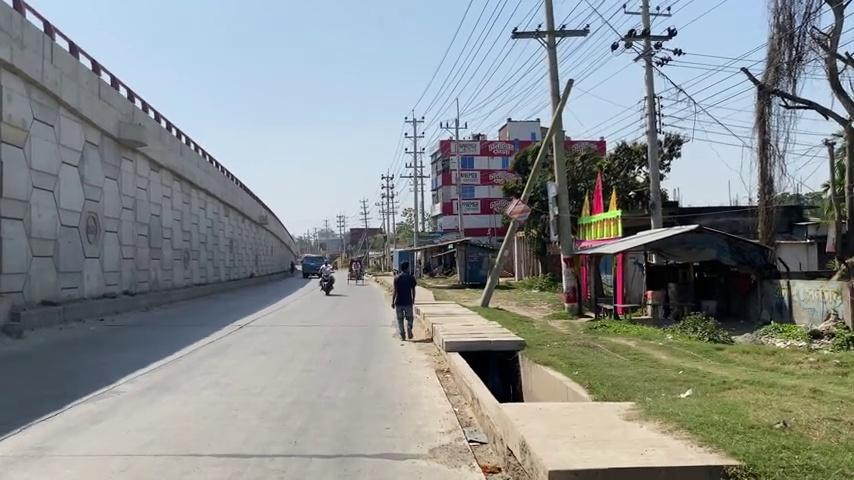Bollard: (300, 253, 326, 278)
Car: (428, 328, 697, 480)
Curb: (318, 268, 334, 295)
Fallen-tree: (1, 0, 300, 332)
Fence: (391, 260, 416, 340)
Garbage: (479, 77, 574, 307), (541, 0, 581, 315)
Garbage-bin: (457, 346, 525, 403)
Rickshaw: (454, 238, 500, 286)
